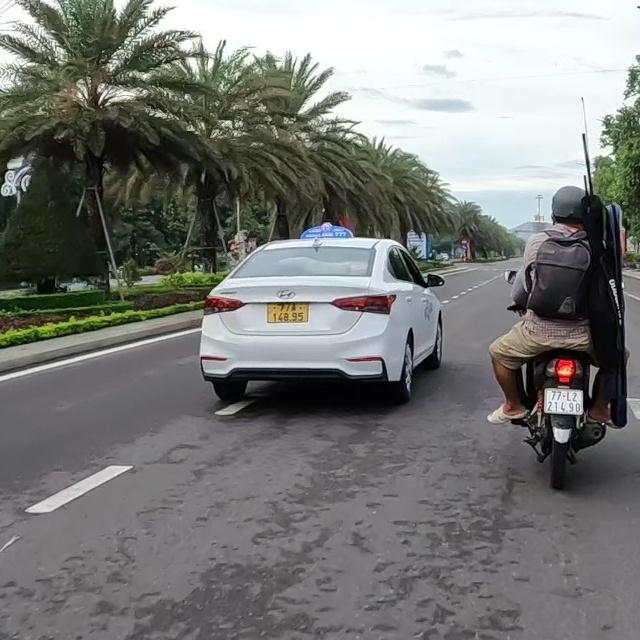license-plate: (543, 388, 585, 416), (266, 303, 307, 324)
